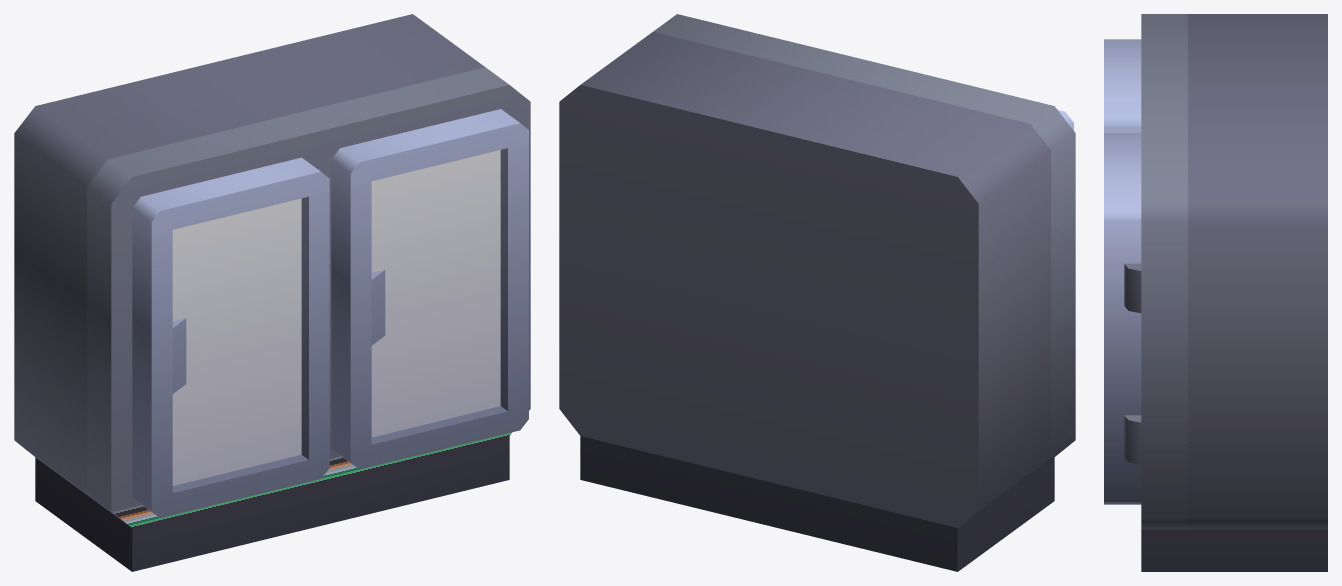
The model's file is freezers-standing.glb.
The picture shows the model from 3 angles, left to right: view 1: azimuth 30°, elevation 25°; view 2: azimuth 150°, elevation 25°; view 3: azimuth 270°, elevation 25°; orthographic projection. The views are drawn at different scales.
Visible parts, largest first — view 1: freezers-standing; view 2: freezers-standing; view 3: freezers-standing.
Boxes of the visible parts, bbox=[...] form: freezers-standing: bbox=[14, 14, 530, 571]; freezers-standing: bbox=[559, 14, 1075, 571]; freezers-standing: bbox=[1104, 14, 1327, 571].
Bounding box in the file's own units: 1 × 0.9 × 0.48.
1 material, 1 textured.
